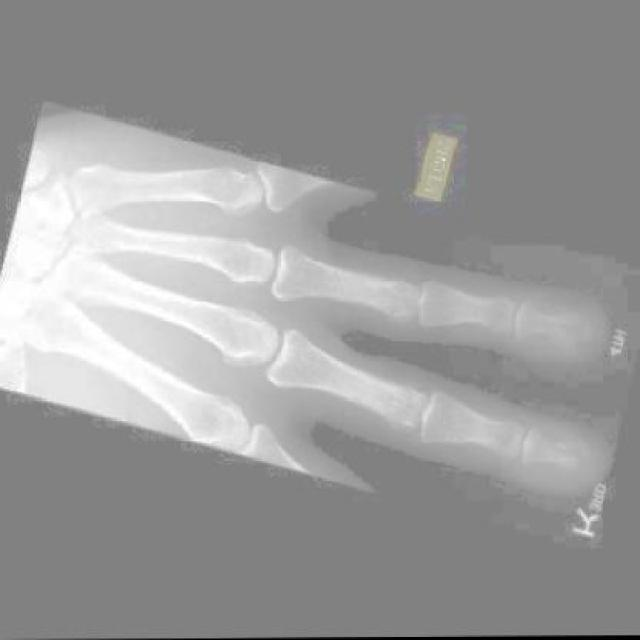Fracture: (546, 311, 603, 365), (548, 437, 607, 488)
